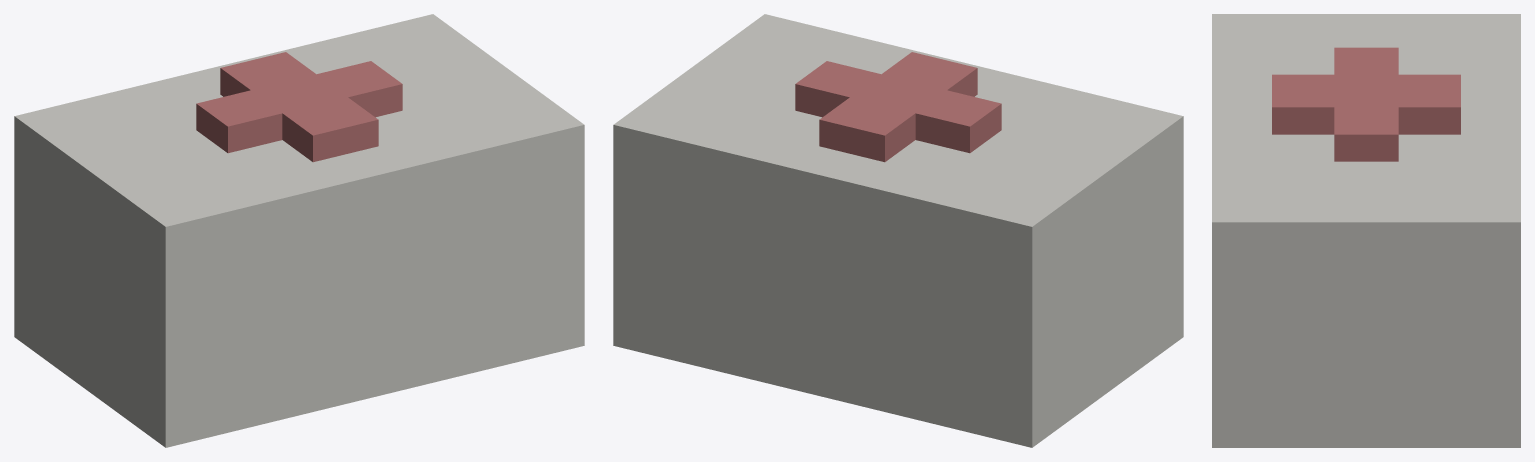
File: medical_case.glb
3 renders of one model, left to right at view 1: azimuth 30°, elevation 25°; view 2: azimuth 150°, elevation 25°; view 3: azimuth 270°, elevation 25°, orthographic. The views are drawn at different scales.
Parts seen in each view (by area): view 1: body_0, crossv_1, crossh_2; view 2: body_0, crossv_1, crossh_2; view 3: body_0, crossv_1, crossh_2.
Part boxes in pixels (x1,y1,x2,y2): body_0: (14,14,584,447); crossv_1: (220,52,378,162); crossh_2: (196,61,402,153); body_0: (613,14,1183,447); crossv_1: (819,52,977,162); crossh_2: (795,61,1001,153); body_0: (1212,14,1520,447); crossv_1: (1272,74,1460,134); crossh_2: (1334,47,1398,161).
Bounding box in the file's own units: 1.15 × 0.65 × 0.72.
